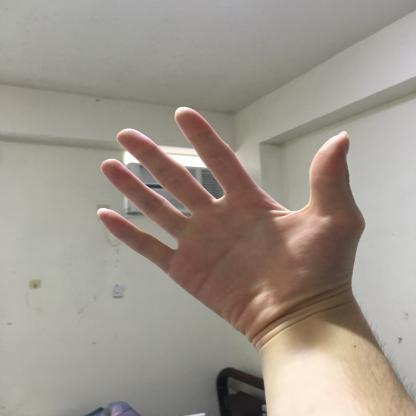bare_hand: (78, 96, 372, 357)
